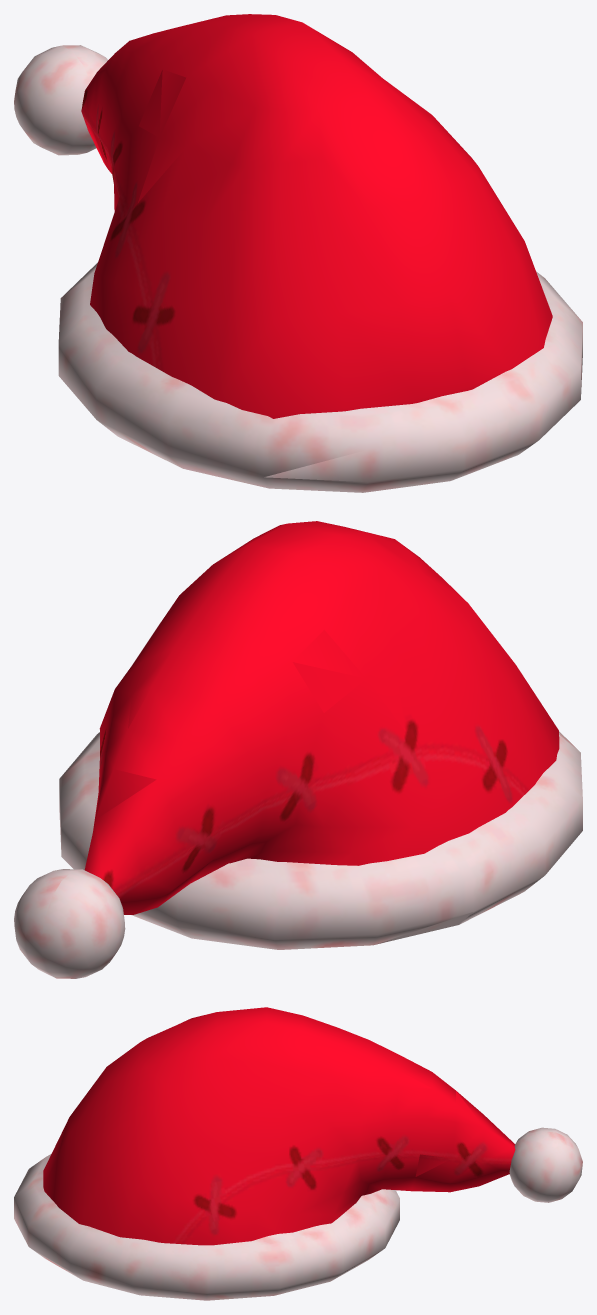
The model's file is holiday_hat.FBX.
The picture shows the model from 3 angles, top to bottom: view 1: azimuth 30°, elevation 25°; view 2: azimuth 150°, elevation 25°; view 3: azimuth 270°, elevation 25°; orthographic projection. The views are drawn at different scales.
Visible parts, largest first — view 1: Holiday_Hat; view 2: Holiday_Hat; view 3: Holiday_Hat.
Part boxes in pixels (x1,y1,x2,y2): Holiday_Hat: (14, 14, 582, 492); Holiday_Hat: (14, 521, 582, 978); Holiday_Hat: (14, 1007, 582, 1300).
Size of the model in its own units: 27.71 by 20.18 by 45.25.
